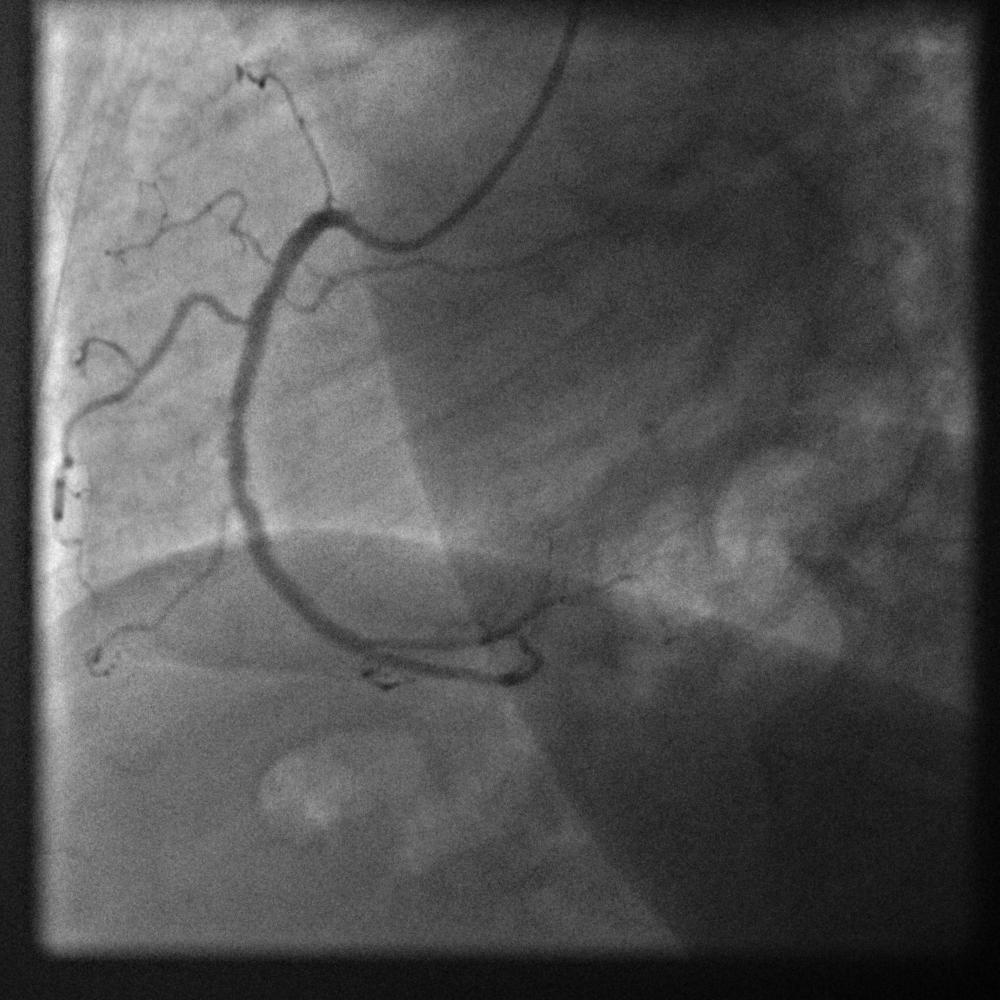Stenosis: (256, 251, 291, 300)
